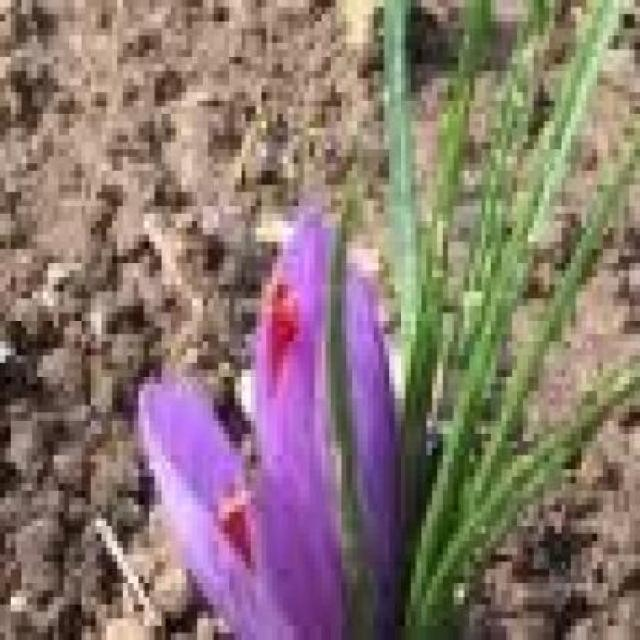saffron open: (258, 214, 341, 639)
